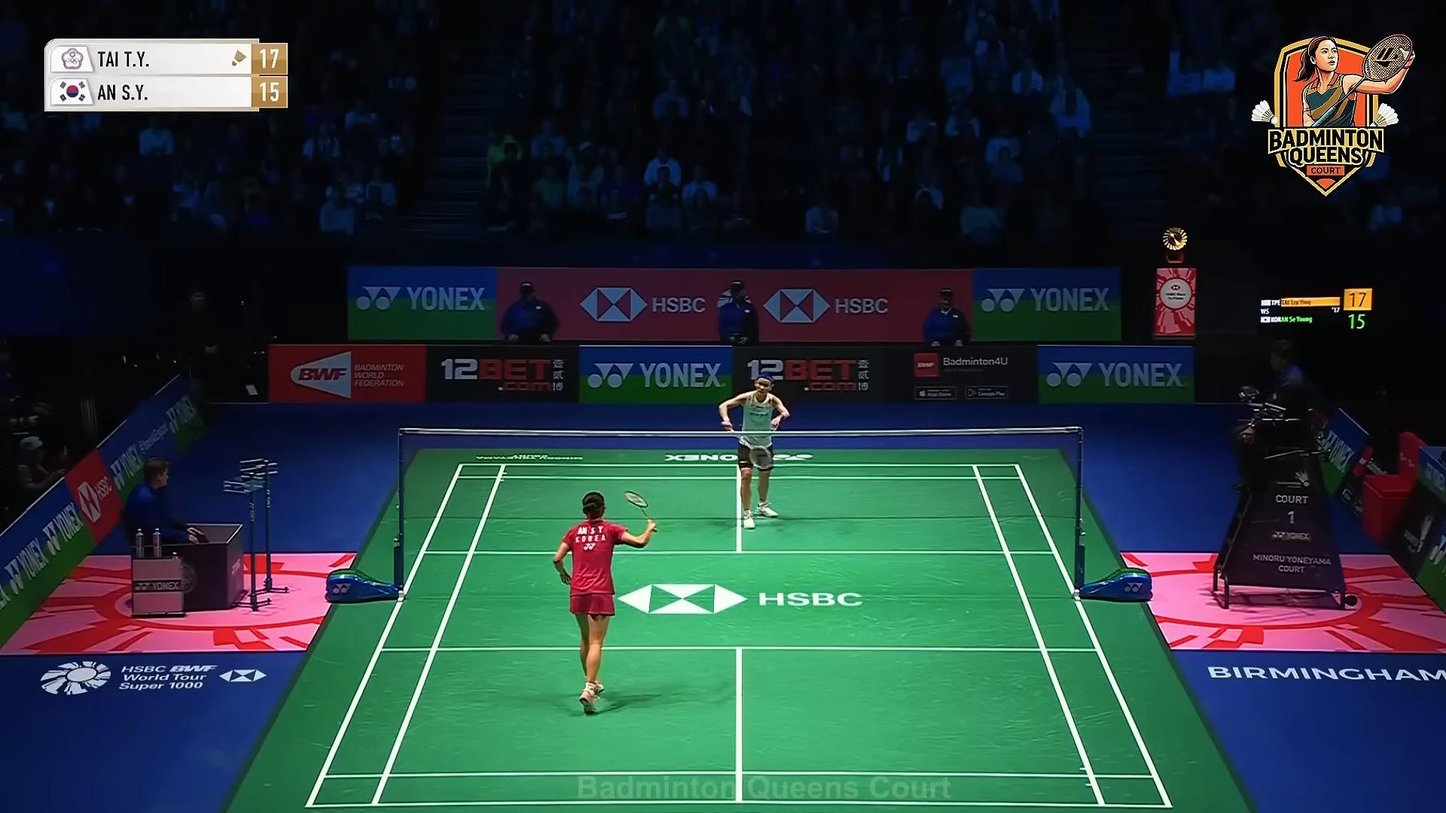player: (553, 491, 656, 717), (721, 378, 785, 530)
